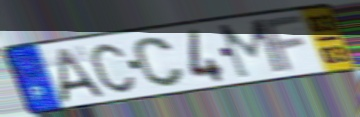4: (189, 26, 228, 85)
A: (56, 45, 107, 105)
C: (132, 35, 188, 90), (89, 42, 138, 95)
F: (262, 12, 308, 75)
M: (215, 16, 289, 82)
